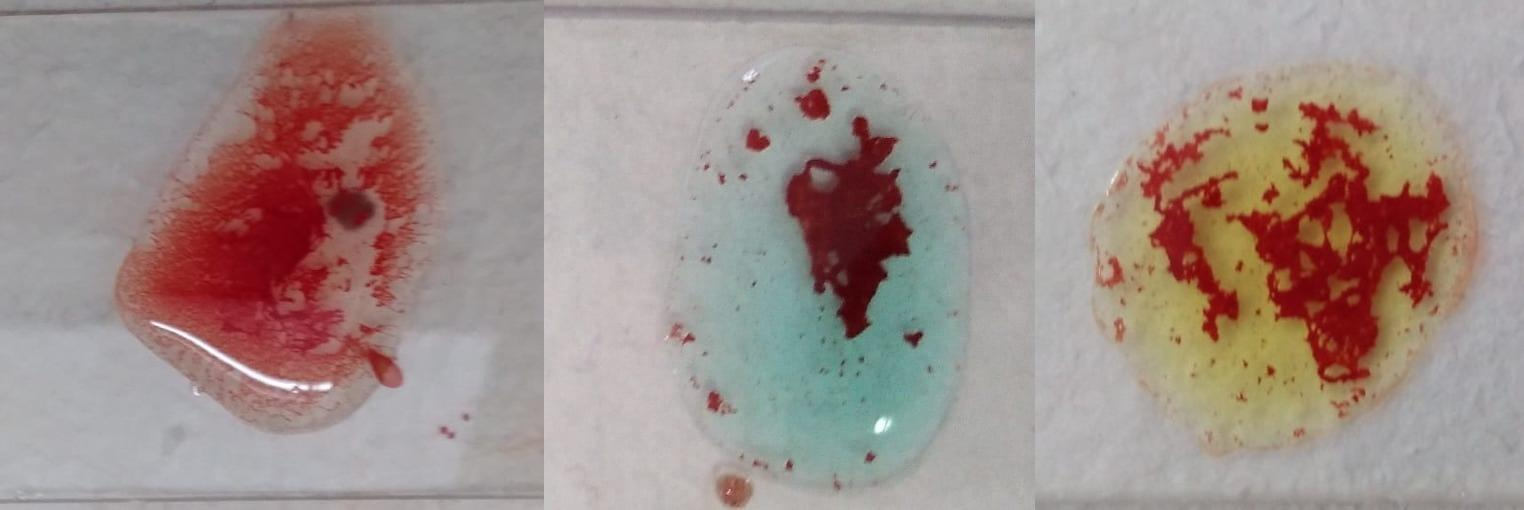A: (665, 50, 996, 481)
B: (1096, 62, 1481, 442)
D: (109, 29, 441, 426)
